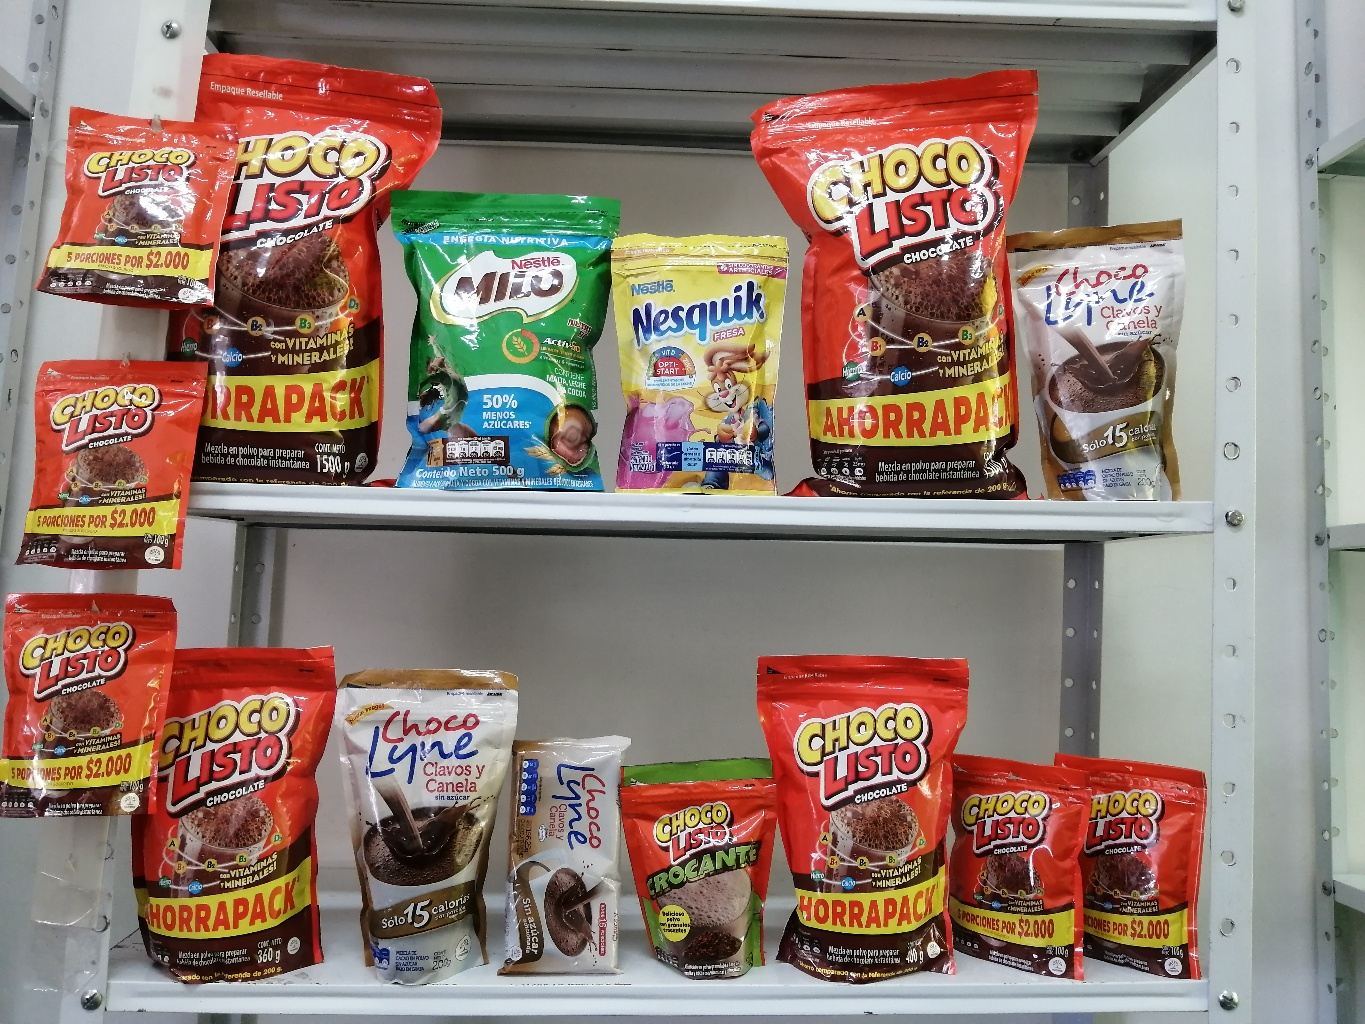COL0170102DYP10000: (624, 742, 773, 987)
COL0170103DYP1,500: (760, 79, 1040, 501)
COL0170103DYP10000: (1060, 746, 1202, 979)
COL0170103DYP36000: (146, 628, 352, 983)
COL0170103DYP40000: (758, 645, 979, 980)
COL0170205DYP50000: (392, 171, 617, 486)
COL0170305DYP20000: (599, 216, 790, 481)
